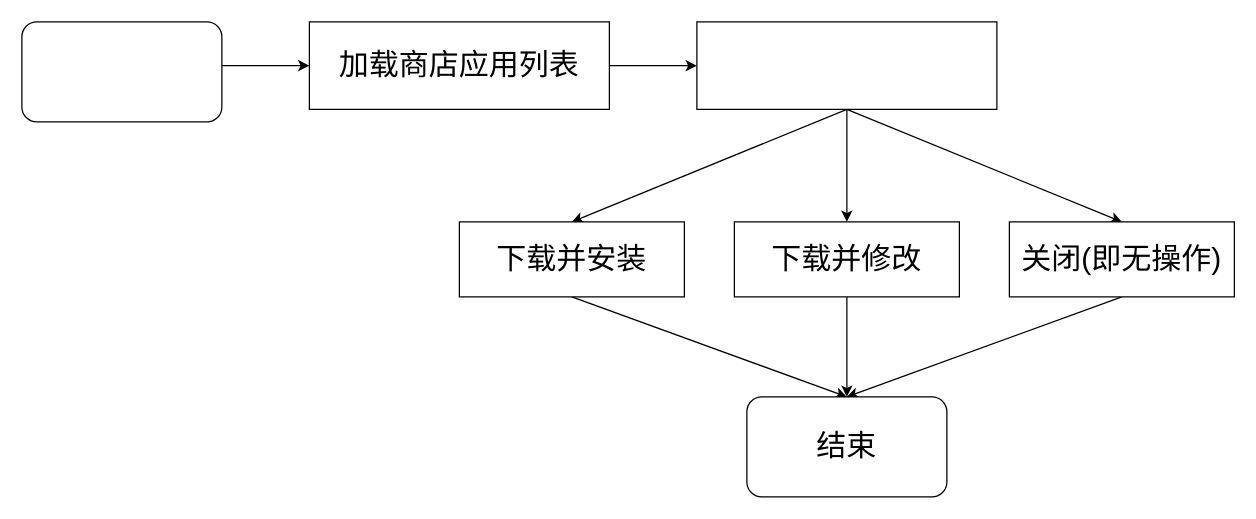
Some shapes in this 1256 by 519 pixel diagram are drawn without their labels. Each missing label, with the box of its shape:
开始: (21, 21, 222, 122)
选择待操作的应用: (696, 21, 997, 109)
